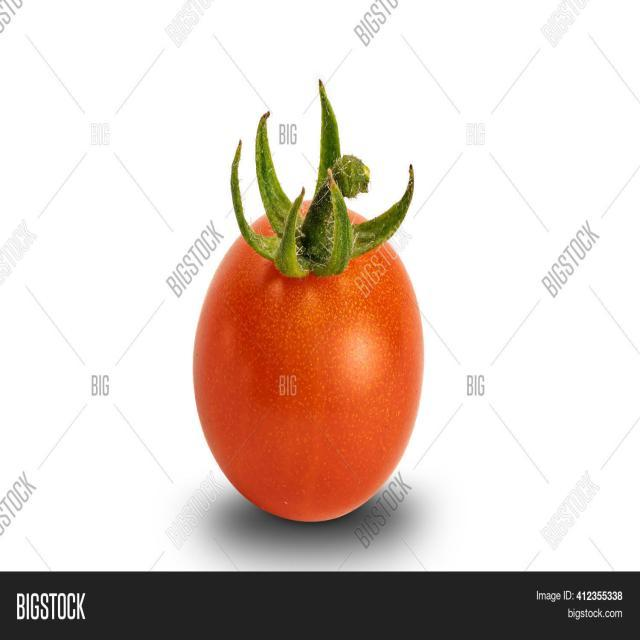kirmizi: (144, 160, 466, 560)
